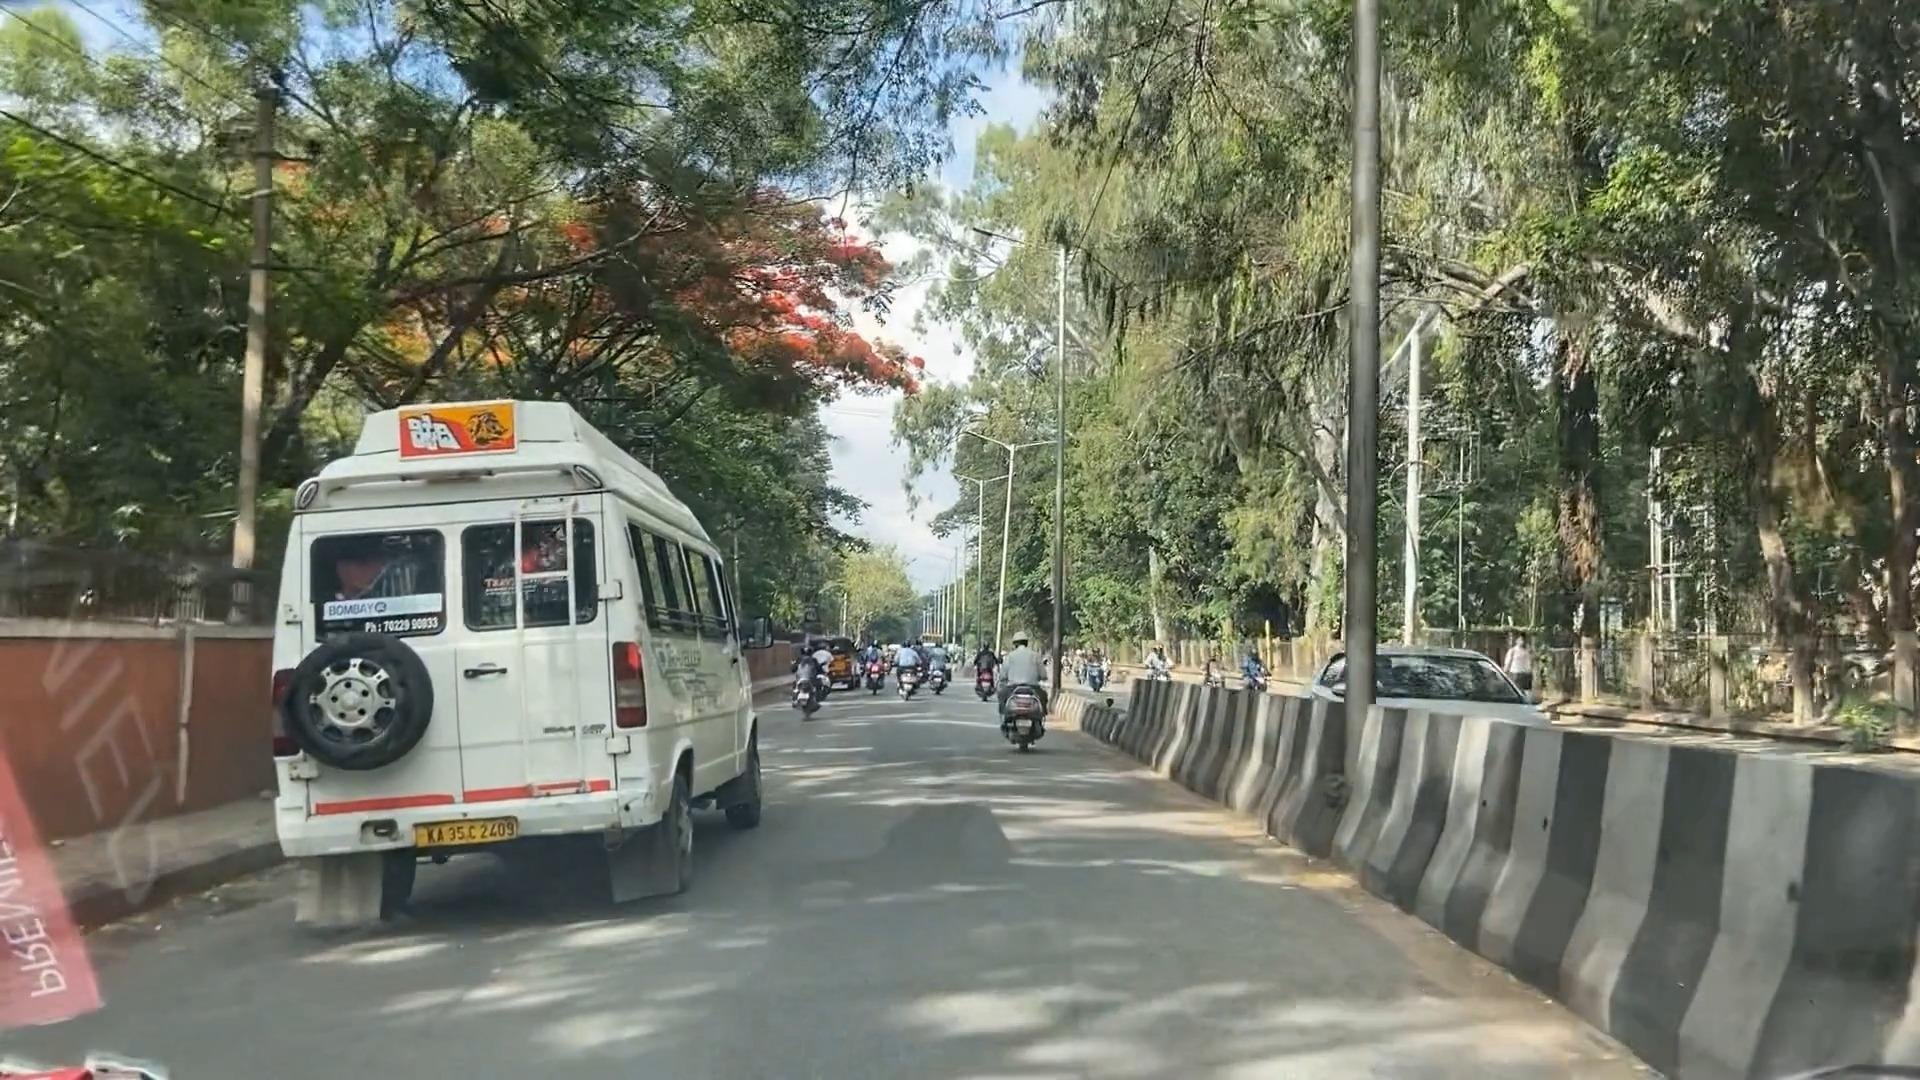HMV: (245, 438, 753, 894)
